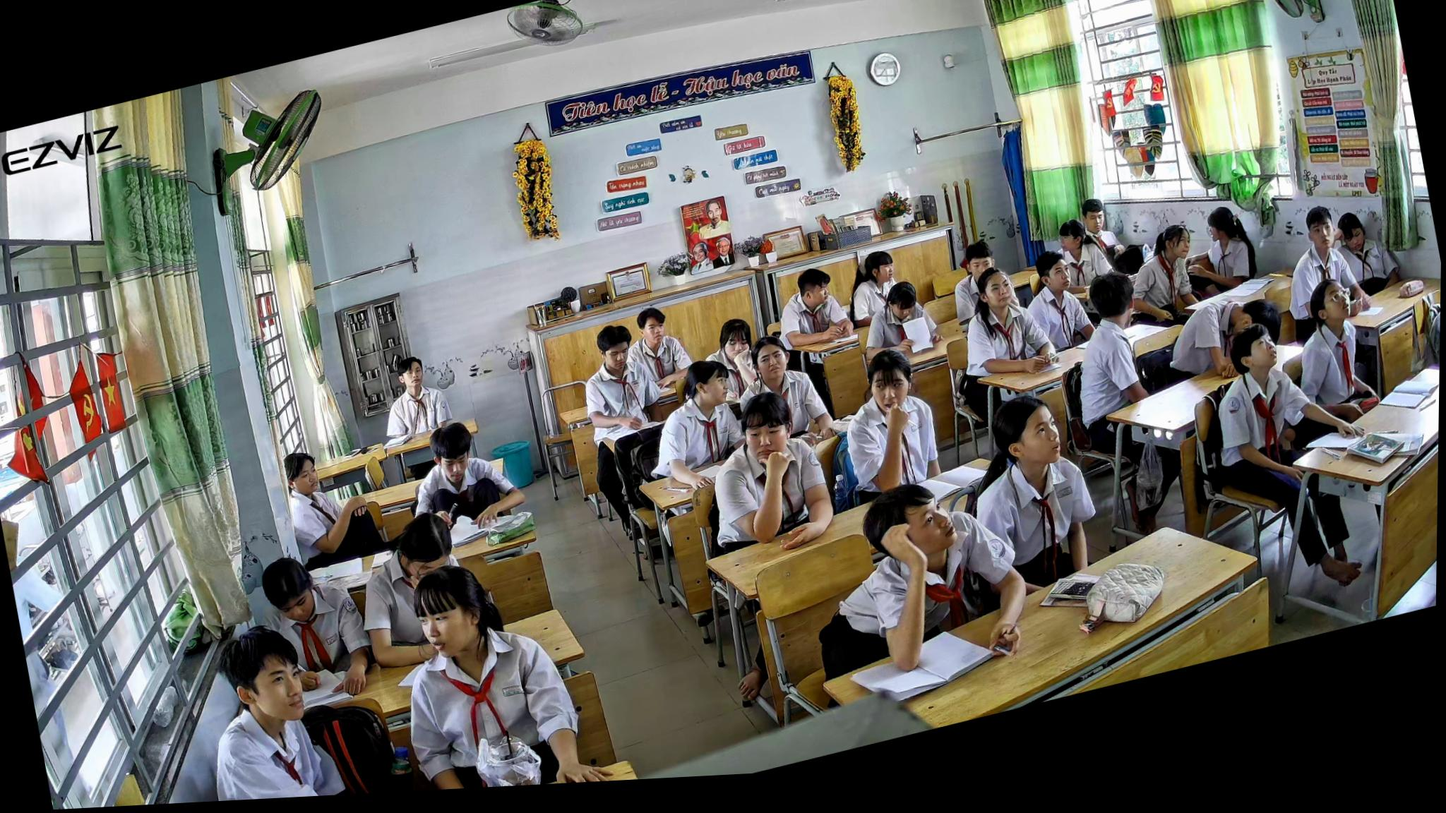person: (373, 524, 630, 793), (816, 456, 1042, 695), (172, 601, 373, 803), (956, 375, 1127, 607), (1186, 294, 1368, 489), (675, 373, 850, 572), (342, 490, 517, 680), (230, 533, 381, 713), (1049, 256, 1181, 428), (821, 337, 957, 500), (397, 399, 539, 549), (1272, 264, 1399, 421), (943, 251, 1068, 395), (1159, 271, 1298, 391), (635, 348, 762, 478), (267, 432, 383, 571), (1269, 192, 1376, 328), (732, 320, 836, 454), (576, 310, 671, 445), (846, 266, 956, 370), (1121, 213, 1219, 326), (766, 253, 865, 358), (1021, 239, 1110, 353), (364, 342, 461, 446), (613, 286, 700, 394), (1033, 208, 1123, 306), (1186, 192, 1268, 294), (833, 236, 919, 333), (938, 227, 1025, 322), (1333, 196, 1407, 298), (689, 312, 765, 404), (1068, 186, 1139, 269)
